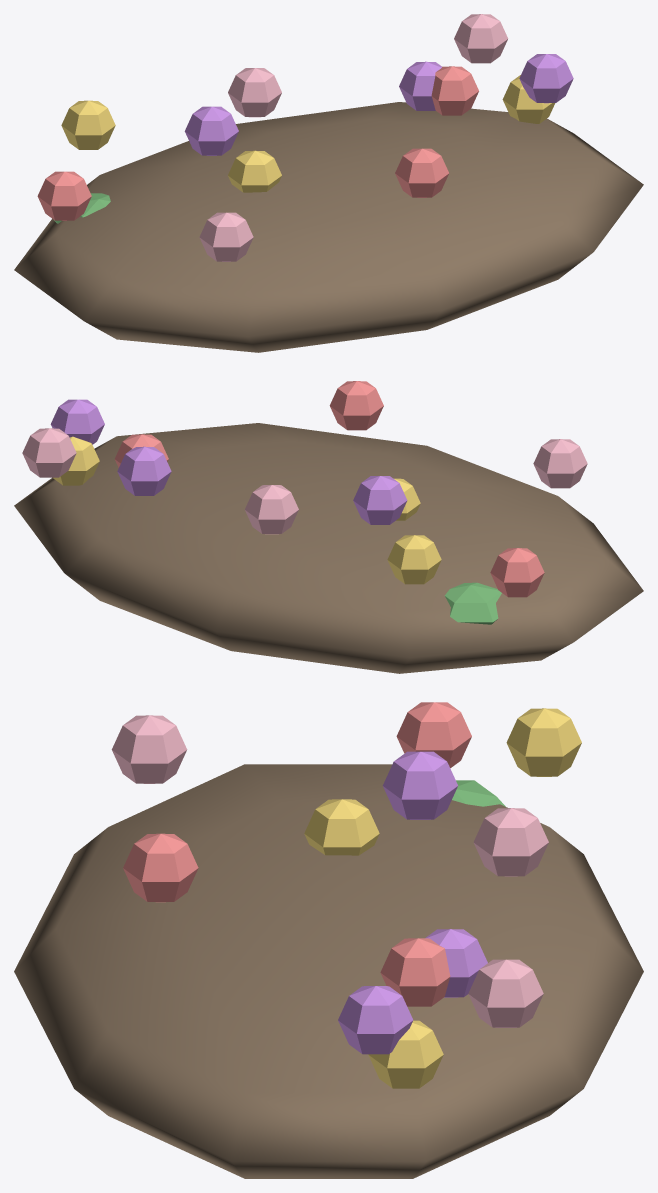
The model's file is flower_bed.glb.
3 views of the same model, one above another, from view 1: azimuth 30°, elevation 25°; view 2: azimuth 150°, elevation 25°; view 3: azimuth 270°, elevation 25° (orthographic). The views are drawn at different scales.
Parts seen in each view (by area): view 1: Soil, Flower_0, Flower_3, Flower_6, Flower_7, Flower_8, Flower_11, Flower_9, Flower_10, Flower_4, Flower_5, Flower_2 (+1 smaller); view 2: Soil, Flower_8, Flower_9, Flower_0, Flower_3, Flower_7, Flower_11, Flower_2, Flower_6, Leaf_4, Flower_10, Flower_1 (+2 smaller); view 3: Soil, Flower_7, Flower_3, Flower_6, Flower_9, Flower_11, Flower_8, Flower_10, Flower_4, Flower_5, Flower_0, Flower_1 (+2 smaller).
Boxes of the visible parts, box(x1,y1,x2,y2) form: Soil: box(14, 102, 643, 352); Flower_0: box(37, 171, 91, 220); Flower_3: box(454, 14, 508, 63); Flower_6: box(184, 106, 238, 155); Flower_7: box(199, 212, 253, 261); Flower_8: box(395, 148, 449, 197); Flower_11: box(228, 68, 281, 117); Flower_9: box(61, 100, 115, 149); Flower_10: box(519, 54, 573, 103); Flower_4: box(431, 66, 478, 115); Flower_5: box(228, 150, 281, 192); Flower_2: box(399, 61, 441, 110); Soil: box(14, 423, 643, 673); Flower_8: box(329, 381, 383, 430); Flower_9: box(387, 535, 441, 584); Flower_0: box(490, 548, 544, 597); Flower_3: box(22, 428, 76, 477); Flower_7: box(533, 439, 587, 488); Flower_11: box(244, 485, 298, 534); Flower_2: box(117, 446, 171, 495); Flower_6: box(353, 476, 407, 524); Leaf_4: box(444, 582, 501, 624); Flower_10: box(50, 399, 104, 444); Flower_1: box(53, 436, 99, 485); Soil: box(14, 764, 643, 1178); Flower_7: box(111, 715, 187, 783); Flower_3: box(468, 959, 543, 1027); Flower_6: box(382, 751, 457, 819); Flower_9: box(506, 708, 581, 776); Flower_11: box(473, 808, 548, 876); Flower_8: box(123, 833, 198, 902); Flower_10: box(338, 986, 413, 1054); Flower_4: box(380, 938, 450, 1006); Flower_5: box(304, 799, 379, 855); Flower_0: box(396, 702, 471, 767); Flower_1: box(368, 1020, 443, 1088).
Bounding box in the file's own units: 1.43 × 0.4353 × 1.
